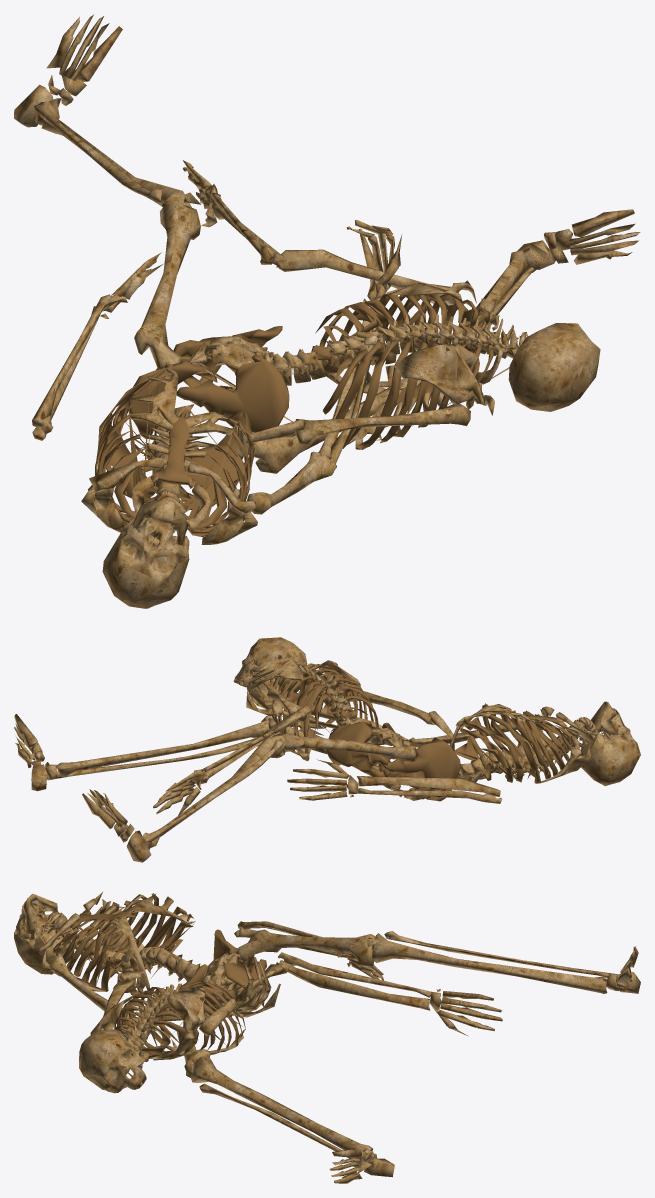
The model's file is skullprop.glb.
The picture shows the model from 3 angles, top to bottom: view 1: azimuth 30°, elevation 25°; view 2: azimuth 150°, elevation 25°; view 3: azimuth 270°, elevation 25°; orthographic projection. The views are drawn at different scales.
Visible parts, largest first — view 1: sub01, sub01.001; view 2: sub01, sub01.001; view 3: sub01, sub01.001.
Part boxes in pixels (bbox=[...]): sub01: bbox=[14, 14, 640, 608]; sub01.001: bbox=[173, 160, 600, 449]; sub01: bbox=[14, 663, 640, 862]; sub01.001: bbox=[153, 637, 453, 815]; sub01: bbox=[14, 891, 640, 1183]; sub01.001: bbox=[79, 952, 502, 1093].
Size of the model in its own units: 2.95 by 0.7827 by 3.07.
Materials: 1 (1 with a texture image).
